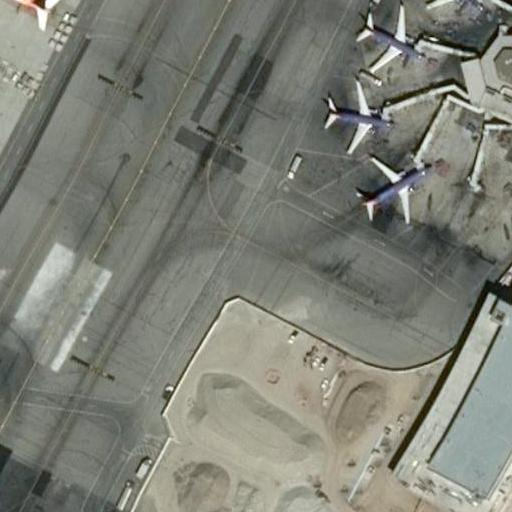Aircraft: (316, 78, 396, 150), (349, 156, 430, 227), (352, 2, 429, 71), (0, 0, 61, 51), (419, 0, 484, 15)
